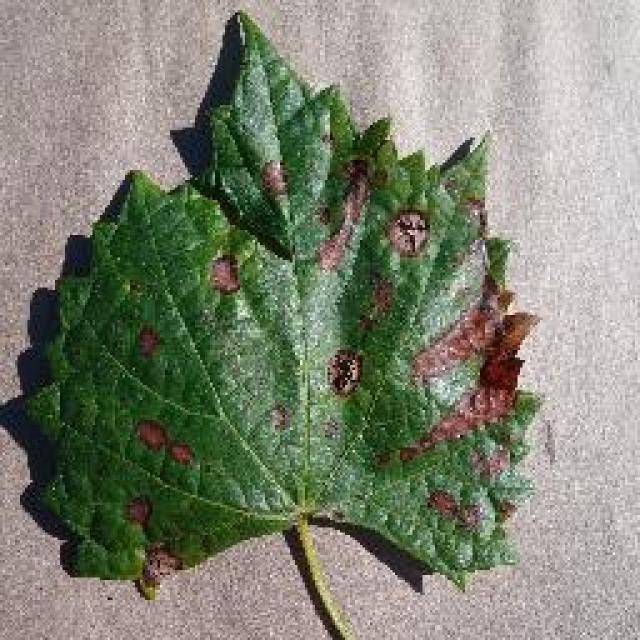Black_Measles: (16, 4, 572, 601)
